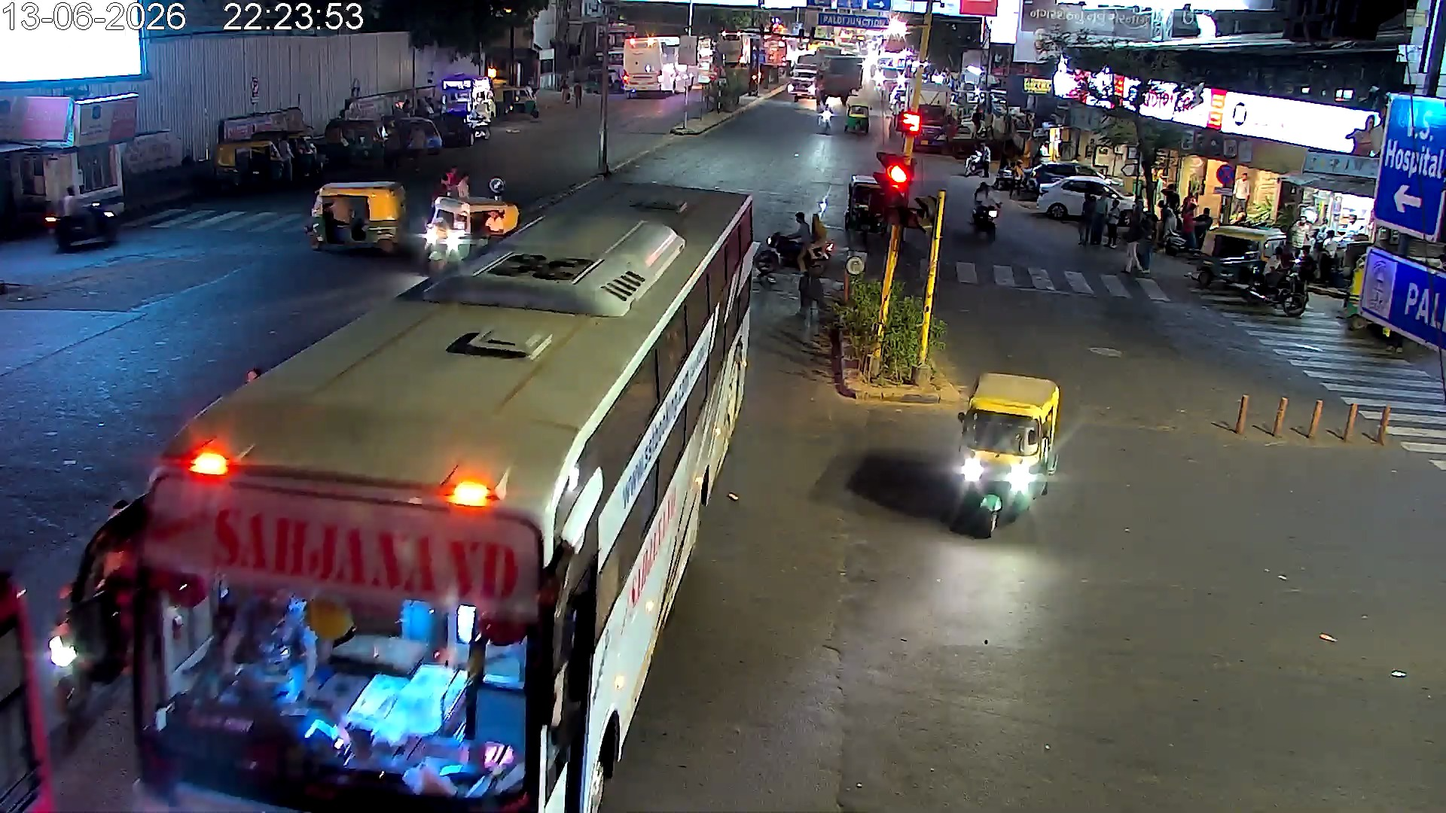auto_rickshaw: (949, 367, 1068, 524), (306, 176, 407, 254), (423, 197, 522, 259), (845, 97, 873, 136)
bus: (13, 284, 763, 782), (909, 104, 954, 149)
car: (1015, 158, 1123, 222), (424, 196, 521, 258)
pedestrian: (816, 93, 835, 136)
two_wheeler: (969, 178, 1002, 241)
